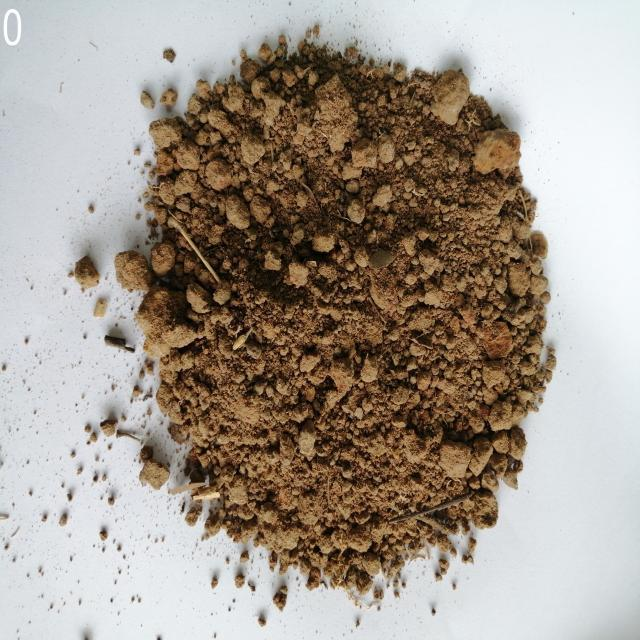soil: (184, 112, 492, 490)
